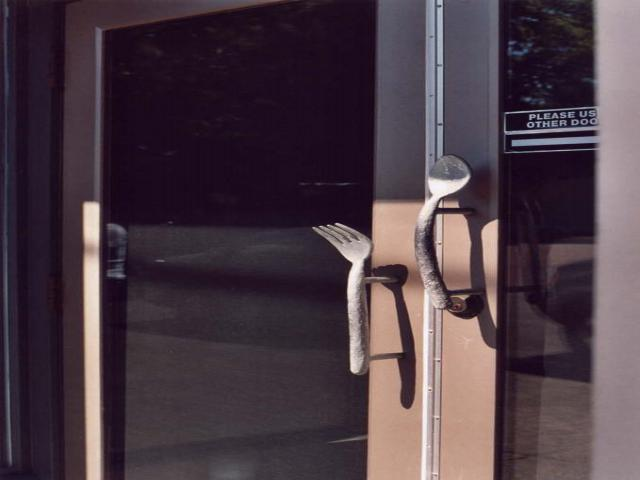Door-handle: (308, 220, 410, 376), (410, 154, 484, 310)
